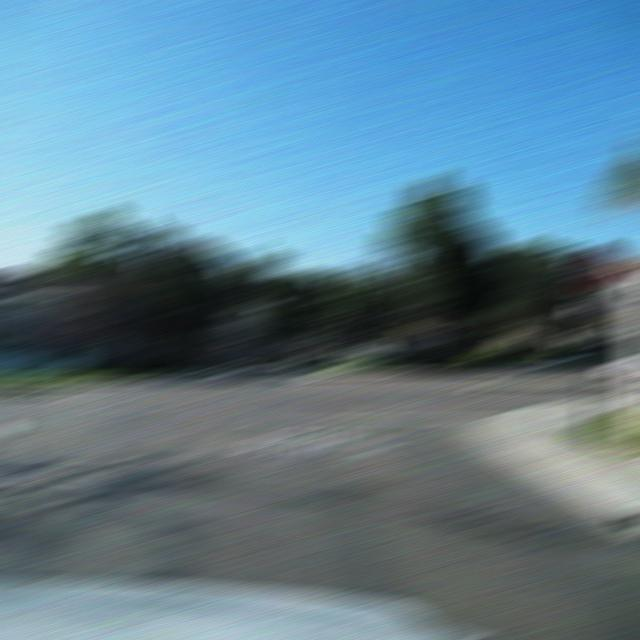stop_sign: (570, 245, 624, 290)
